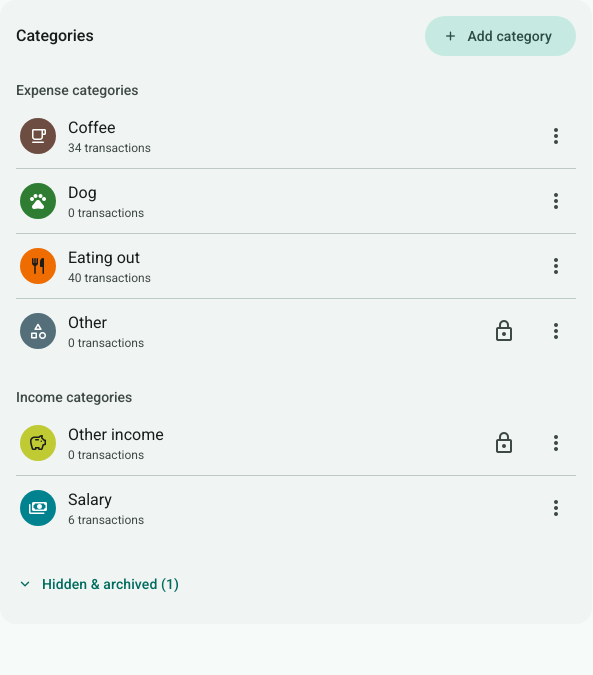
Test case: CategoriesSettingsComponent › adds a category from the dialog and focuses its row
Click the button with class "add" at (501, 36), box [426,16,576,56]
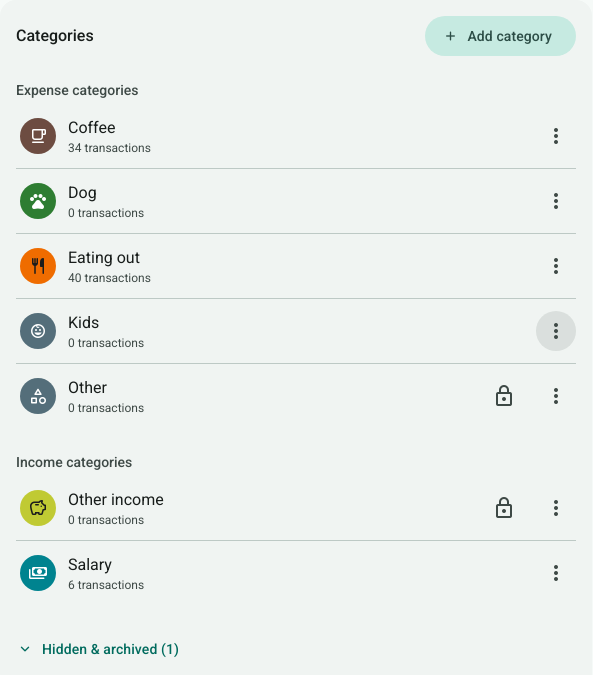
Now the text "Kids" is shown, box [68,313,99,332]
